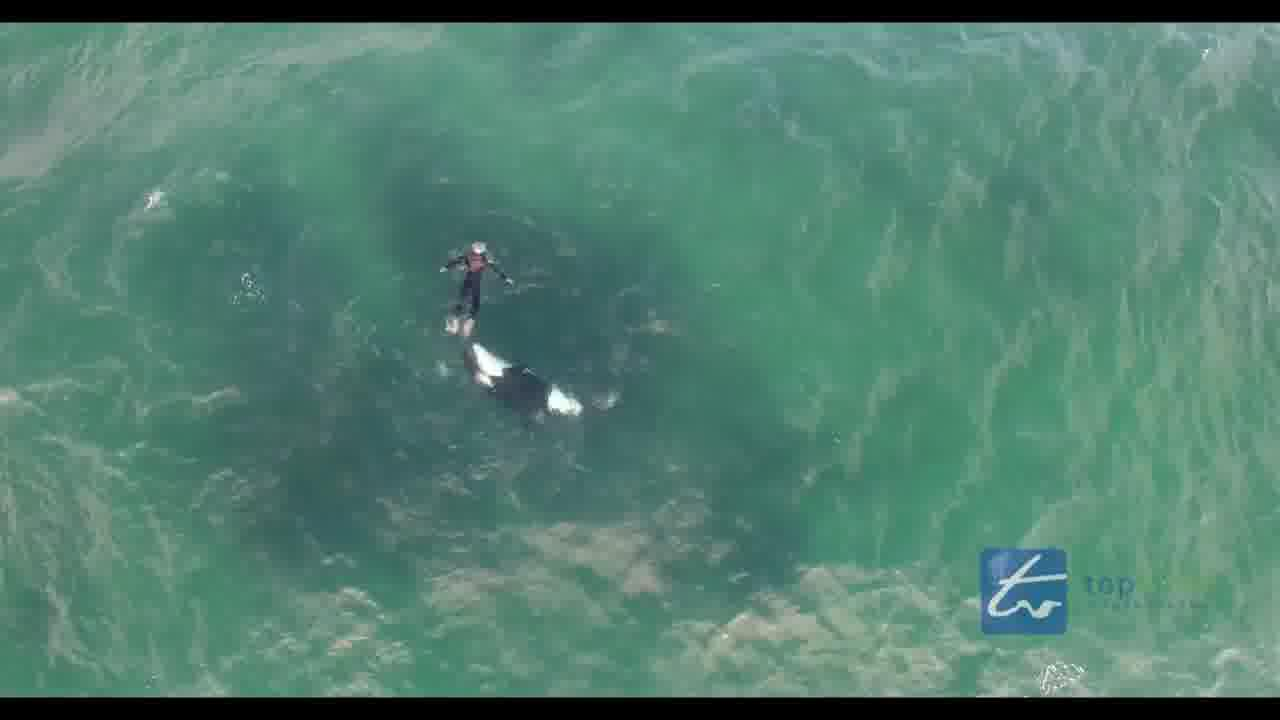swimmer: (430, 238, 519, 341)
